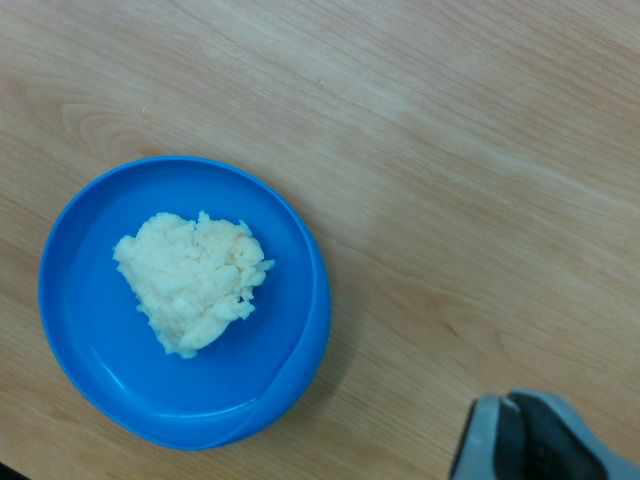mashed_potato: (114, 212, 262, 358)
